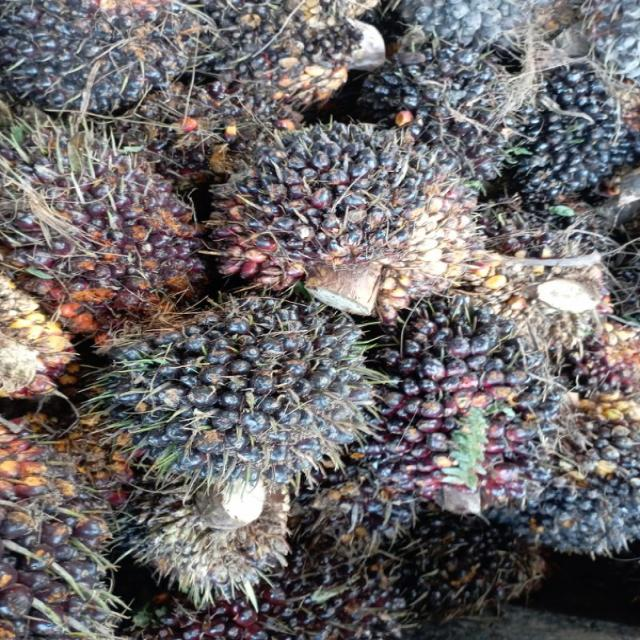fraksi 00: (164, 87, 542, 355), (54, 255, 374, 501), (376, 252, 563, 578)
